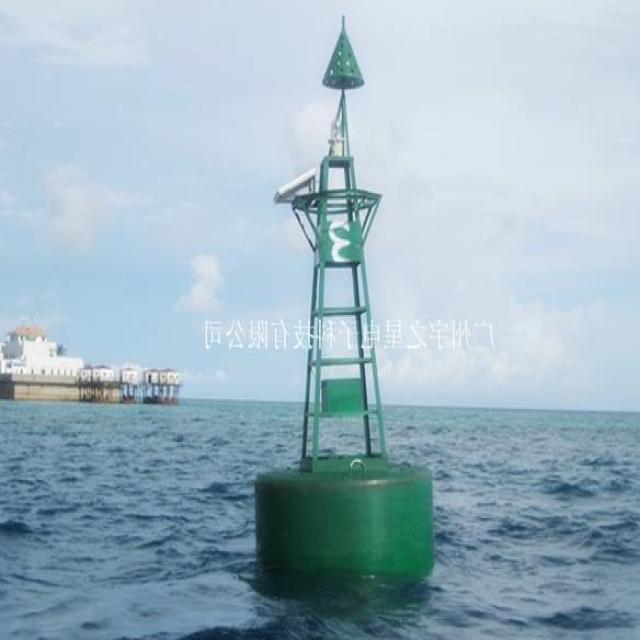buoy: (245, 0, 446, 582)
